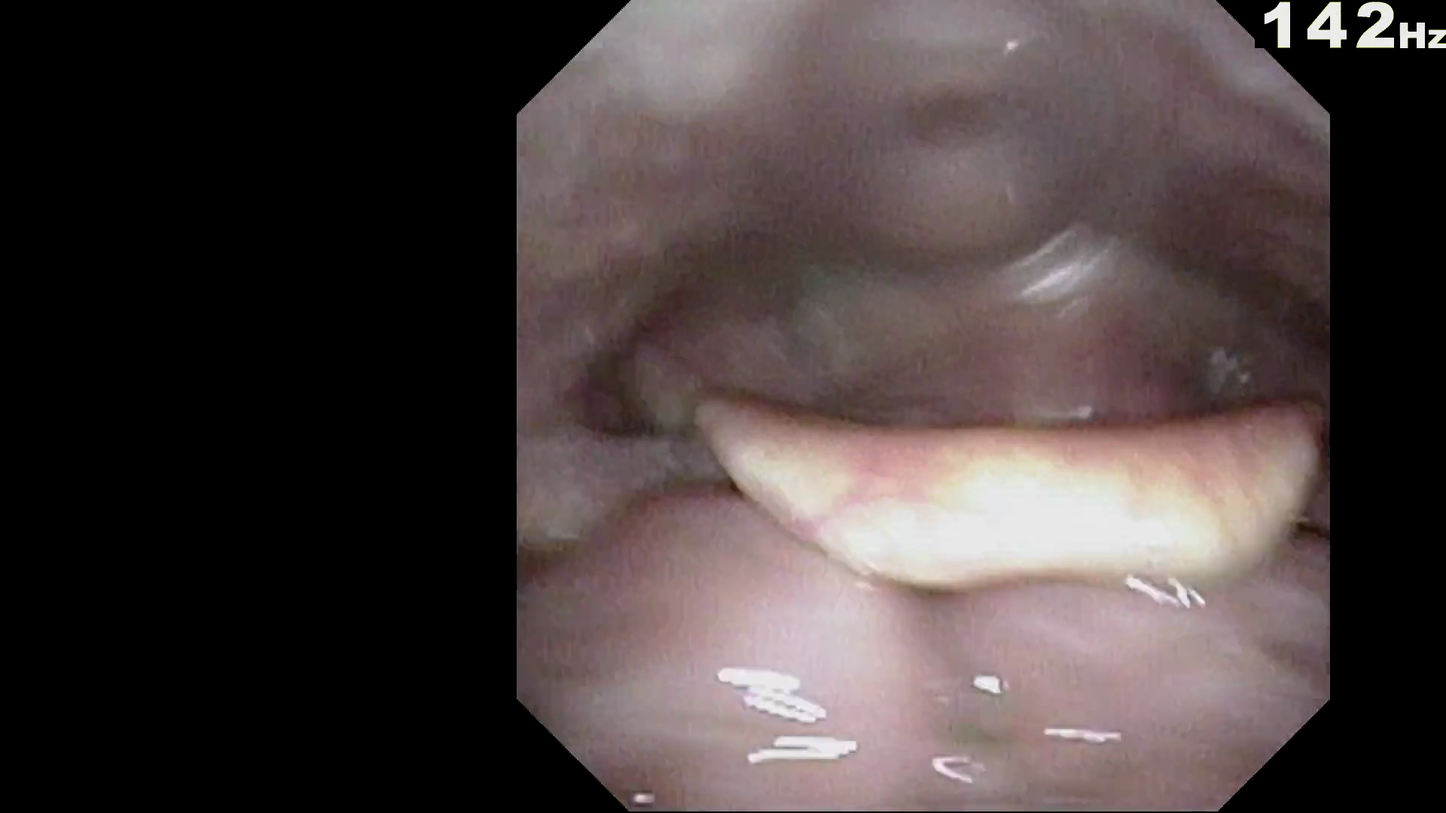epiglottis: (663, 407, 1278, 632)
